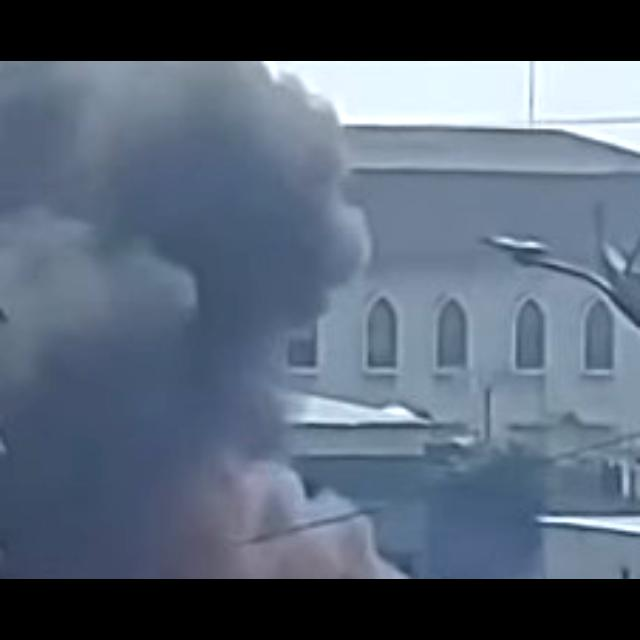smoke: (0, 61, 364, 579)
